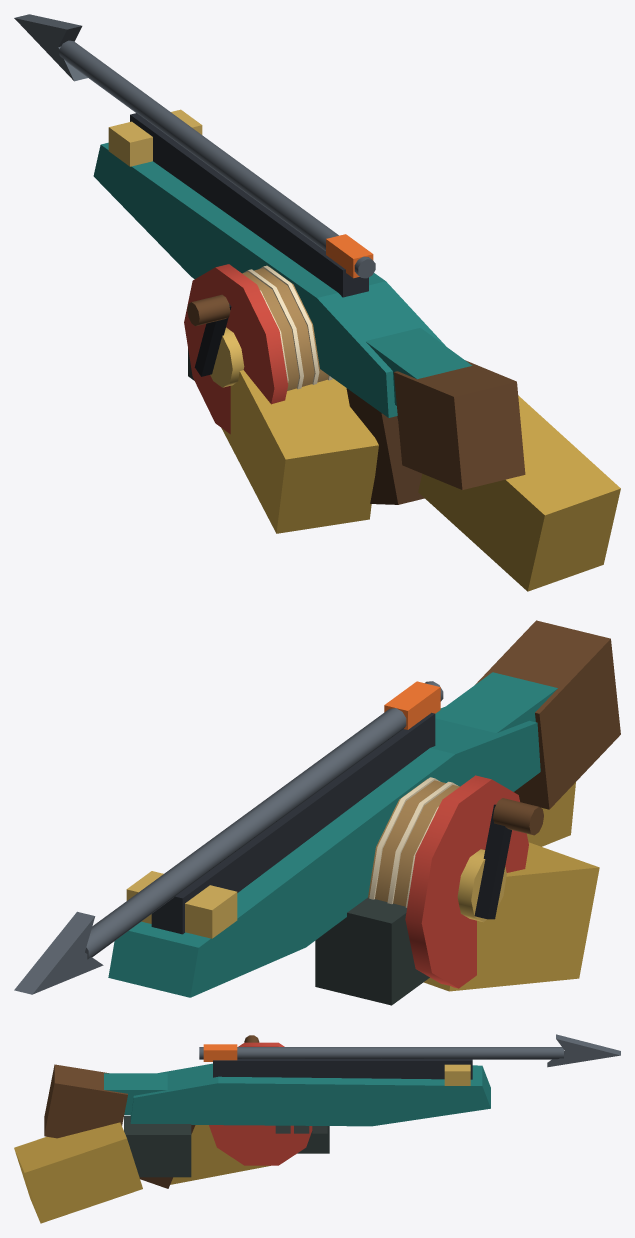
Rendered from harpoon.glb.
3 renders of one model, top to bottom at view 1: azimuth 30°, elevation 25°; view 2: azimuth 150°, elevation 25°; view 3: azimuth 270°, elevation 25°, orthographic. The views are drawn at different scales.
Parts seen in each view (by area): view 1: _MeshInstance3D_3700, _MeshInstance3D_3727, _MeshInstance3D_3721, _MeshInstance3D_3716, _MeshInstance3D_3703, _MeshInstance3D_3705, _MeshInstance3D_3707, _MeshInstance3D_3701, _MeshInstance3D_3717, _MeshInstance3D_3702, _MeshInstance3D_3708, _MeshInstance3D_3706 (+4 smaller); view 2: _MeshInstance3D_3700, _MeshInstance3D_3716, _MeshInstance3D_3721, _MeshInstance3D_3703, _MeshInstance3D_3707, _MeshInstance3D_3705, _MeshInstance3D_3720, _MeshInstance3D_3717, _MeshInstance3D_3702, _MeshInstance3D_3706, _MeshInstance3D_3708, _MeshInstance3D_3710 (+6 smaller); view 3: _MeshInstance3D_3700, _MeshInstance3D_3727, _MeshInstance3D_3707, _MeshInstance3D_3716, _MeshInstance3D_3705, _MeshInstance3D_3726, _MeshInstance3D_3704, _MeshInstance3D_3721, _MeshInstance3D_3717, _MeshInstance3D_3706, _MeshInstance3D_3718, _MeshInstance3D_3708 (+2 smaller).
Part boxes in pixels (bbox=[...]): _MeshInstance3D_3700: bbox=[93, 142, 445, 417]; _MeshInstance3D_3727: bbox=[418, 395, 620, 591]; _MeshInstance3D_3721: bbox=[221, 370, 378, 533]; _MeshInstance3D_3716: bbox=[393, 360, 525, 489]; _MeshInstance3D_3703: bbox=[184, 264, 288, 434]; _MeshInstance3D_3705: bbox=[59, 40, 375, 278]; _MeshInstance3D_3707: bbox=[130, 113, 368, 297]; _MeshInstance3D_3701: bbox=[346, 388, 424, 504]; _MeshInstance3D_3717: bbox=[365, 328, 472, 405]; _MeshInstance3D_3702: bbox=[242, 267, 328, 390]; _MeshInstance3D_3708: bbox=[108, 109, 202, 166]; _MeshInstance3D_3706: bbox=[14, 14, 87, 81]; _MeshInstance3D_3700: bbox=[108, 707, 540, 997]; _MeshInstance3D_3716: bbox=[475, 620, 620, 809]; _MeshInstance3D_3721: bbox=[423, 842, 599, 991]; _MeshInstance3D_3703: bbox=[405, 775, 528, 988]; _MeshInstance3D_3707: bbox=[151, 712, 435, 934]; _MeshInstance3D_3705: bbox=[85, 681, 443, 959]; _MeshInstance3D_3720: bbox=[315, 897, 429, 1005]; _MeshInstance3D_3717: bbox=[435, 672, 557, 733]; _MeshInstance3D_3702: bbox=[368, 778, 459, 906]; _MeshInstance3D_3706: bbox=[14, 911, 103, 994]; _MeshInstance3D_3708: bbox=[126, 871, 237, 938]; _MeshInstance3D_3710: bbox=[474, 804, 511, 919]; _MeshInstance3D_3700: bbox=[130, 1063, 490, 1126]; _MeshInstance3D_3727: bbox=[14, 1122, 142, 1223]; _MeshInstance3D_3707: bbox=[213, 1059, 472, 1079]; _MeshInstance3D_3716: bbox=[44, 1064, 127, 1138]; _MeshInstance3D_3705: bbox=[199, 1047, 563, 1059]; _MeshInstance3D_3726: bbox=[124, 1116, 191, 1177]; _MeshInstance3D_3704: bbox=[209, 1125, 312, 1165]; _MeshInstance3D_3721: bbox=[170, 1125, 270, 1184]; _MeshInstance3D_3717: bbox=[104, 1073, 167, 1115]; _MeshInstance3D_3706: bbox=[547, 1034, 620, 1067]; _MeshInstance3D_3718: bbox=[203, 1044, 237, 1061]; _MeshInstance3D_3708: bbox=[444, 1064, 470, 1085].
Size of the model in its own units: 0.1572 by 0.1582 by 0.5607.
